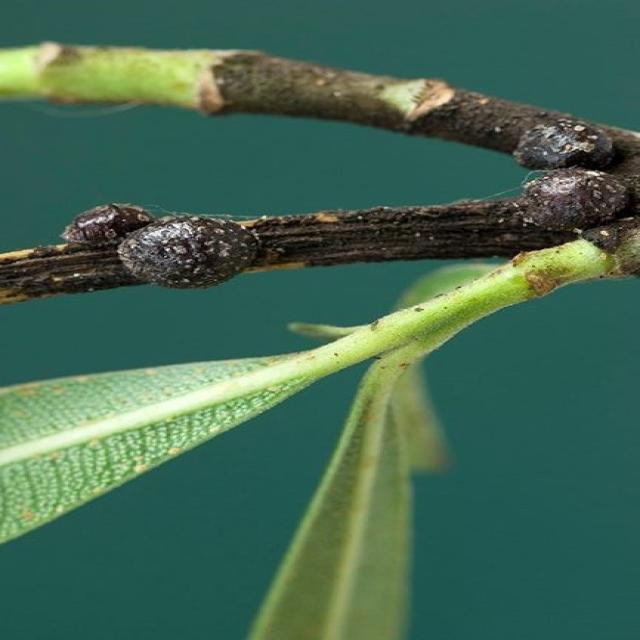Black Scale: (118, 215, 260, 288), (513, 168, 639, 231), (513, 117, 615, 170), (62, 203, 154, 245)
